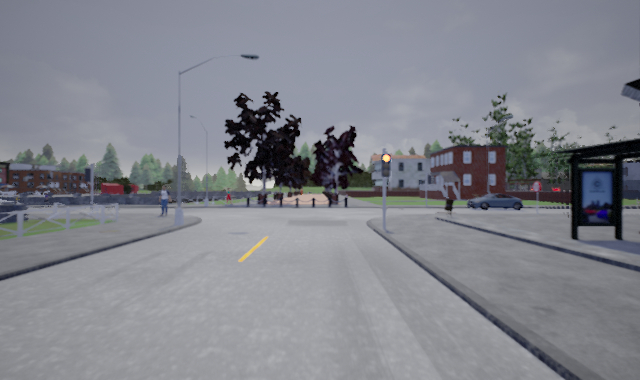pedestrian: (156, 184, 173, 216), (40, 191, 53, 209), (224, 186, 234, 204)
traffic_light: (381, 150, 391, 178)
vehicle: (467, 193, 524, 211), (1, 193, 26, 214)
